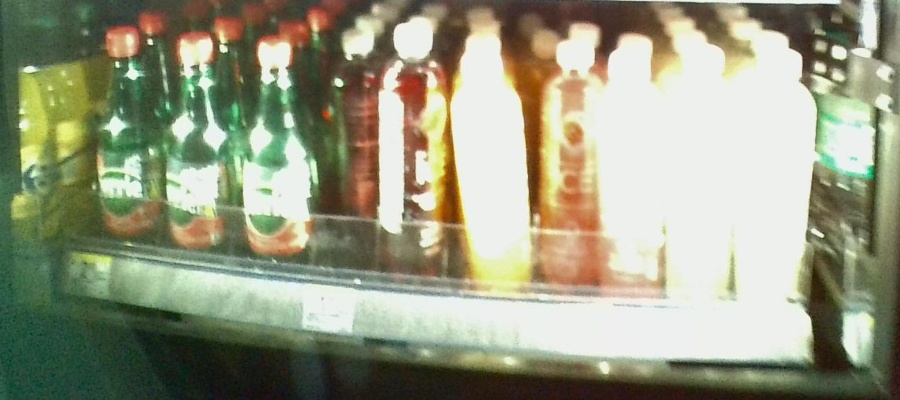bottle: (452, 43, 531, 288), (743, 44, 816, 300), (667, 50, 740, 303), (381, 21, 451, 278), (239, 32, 315, 262), (165, 30, 233, 251), (603, 46, 664, 292), (537, 34, 594, 279), (100, 22, 159, 241), (326, 27, 378, 226)
